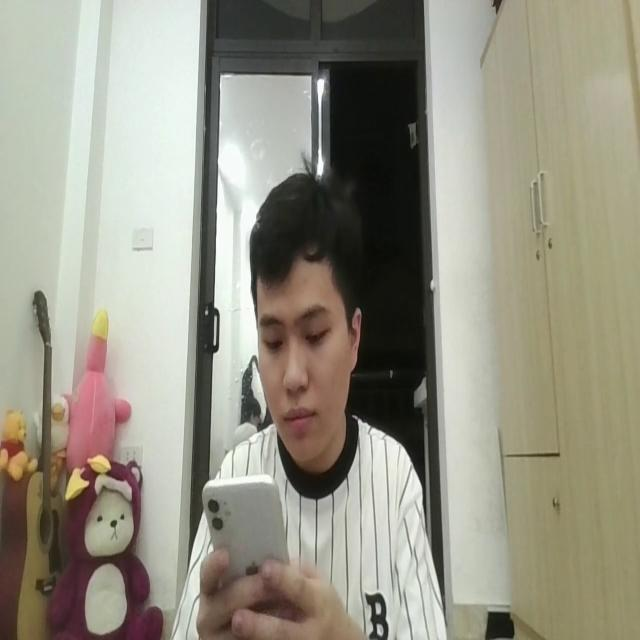phone: (202, 470, 290, 583)
student: (163, 170, 452, 640)
